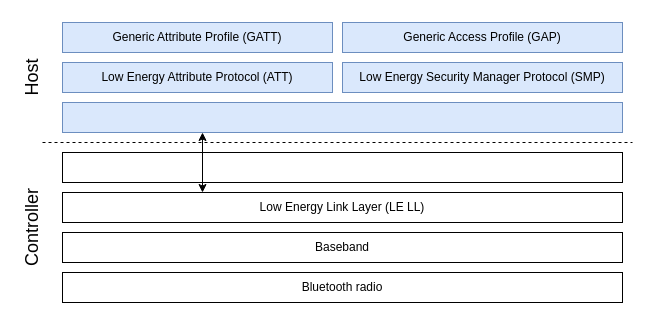
This 651x324 diagram has some shape labels left out. Here are the shapes that lost their labels. From the top down, the box of each, then its label:
(62, 102, 622, 132): Logical Link Control and Adaptation Protocol (L2CAP)
(62, 152, 622, 182): Host Controller Interface (HCI)
